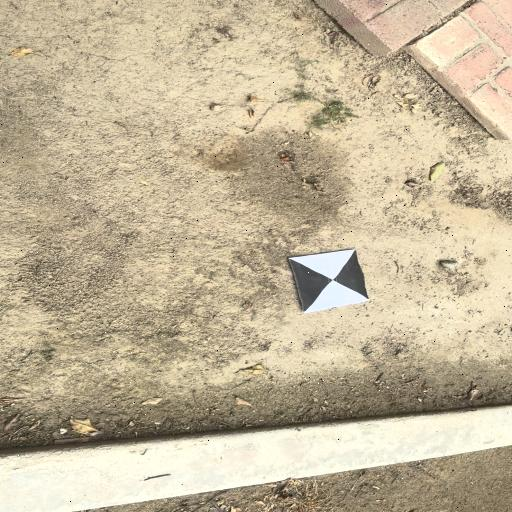target: (289, 249, 369, 312)
